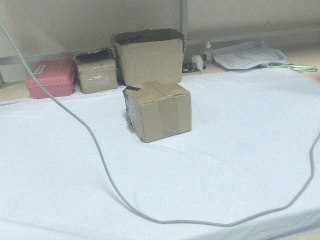box: (124, 81, 193, 143), (113, 28, 184, 88), (74, 47, 120, 95), (28, 52, 74, 100)
